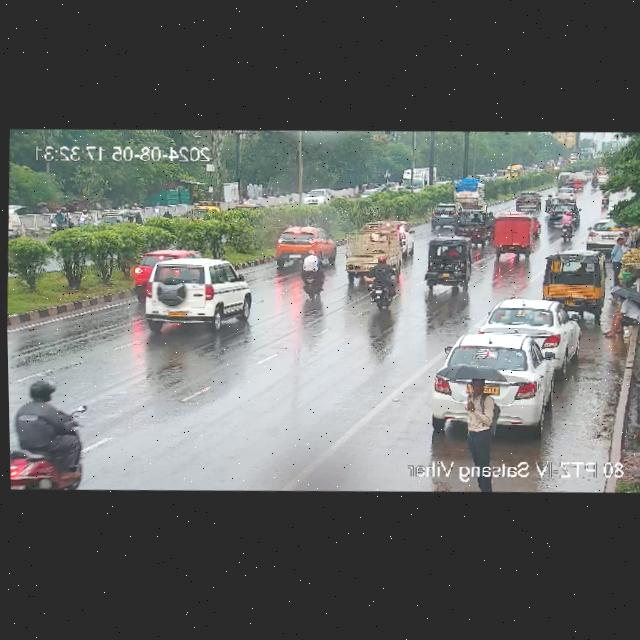car: (428, 326, 554, 435), (138, 258, 252, 328), (482, 297, 578, 358), (539, 250, 606, 307), (420, 236, 477, 293), (268, 225, 330, 267), (488, 214, 538, 255), (584, 216, 614, 252), (545, 200, 581, 229), (448, 210, 488, 233), (431, 202, 455, 230), (303, 186, 330, 206), (104, 210, 139, 224), (188, 204, 216, 219), (553, 187, 574, 203), (556, 171, 570, 188)
motorcycle: (8, 375, 85, 491), (361, 259, 399, 307), (48, 206, 89, 228), (516, 189, 544, 210), (559, 210, 574, 242), (486, 211, 495, 243), (544, 194, 553, 211), (601, 189, 611, 204), (590, 174, 598, 190)
person: (458, 377, 496, 463), (601, 296, 640, 337), (610, 237, 625, 285), (623, 230, 631, 248)
truck: (337, 221, 407, 279), (454, 181, 487, 211)
